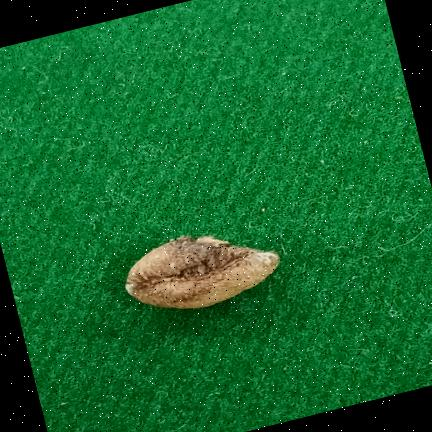partial-black: (125, 235, 279, 308)
